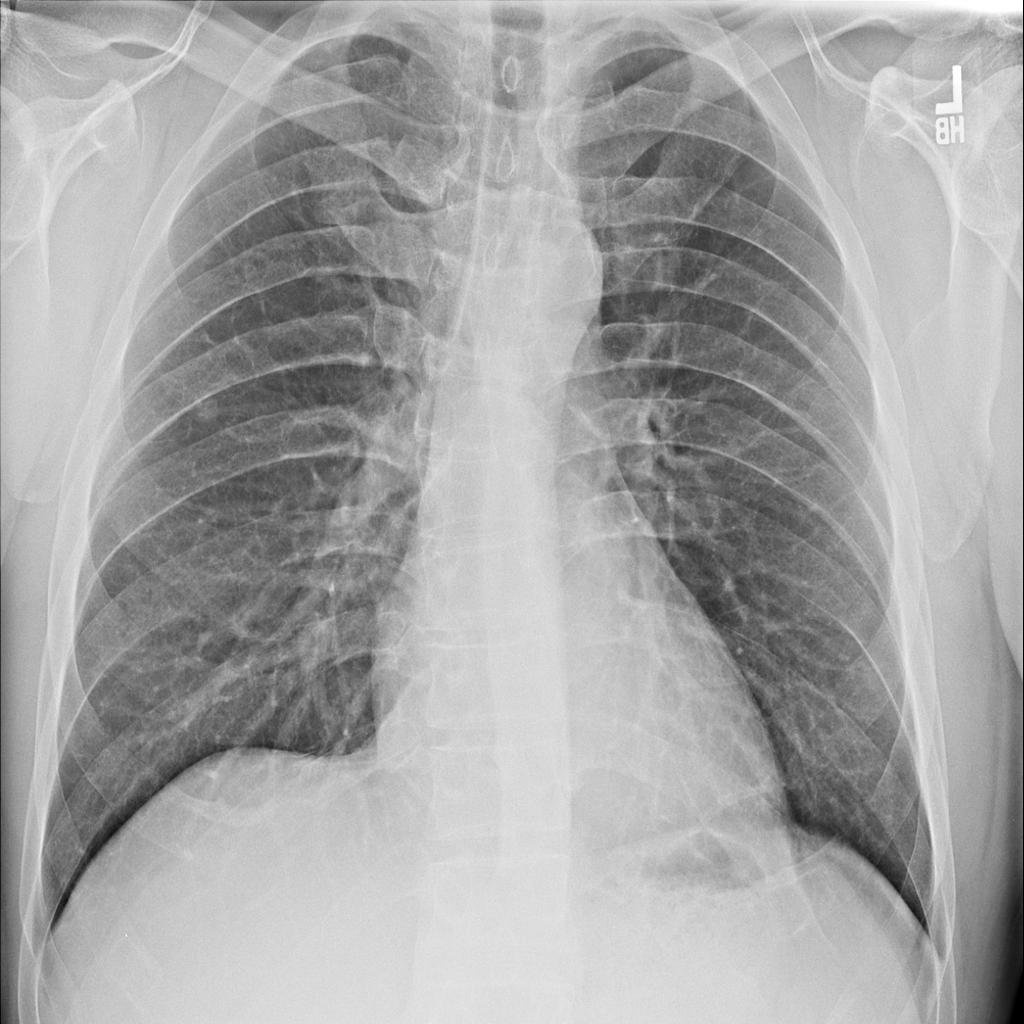Nodule: (188, 387, 229, 431)
